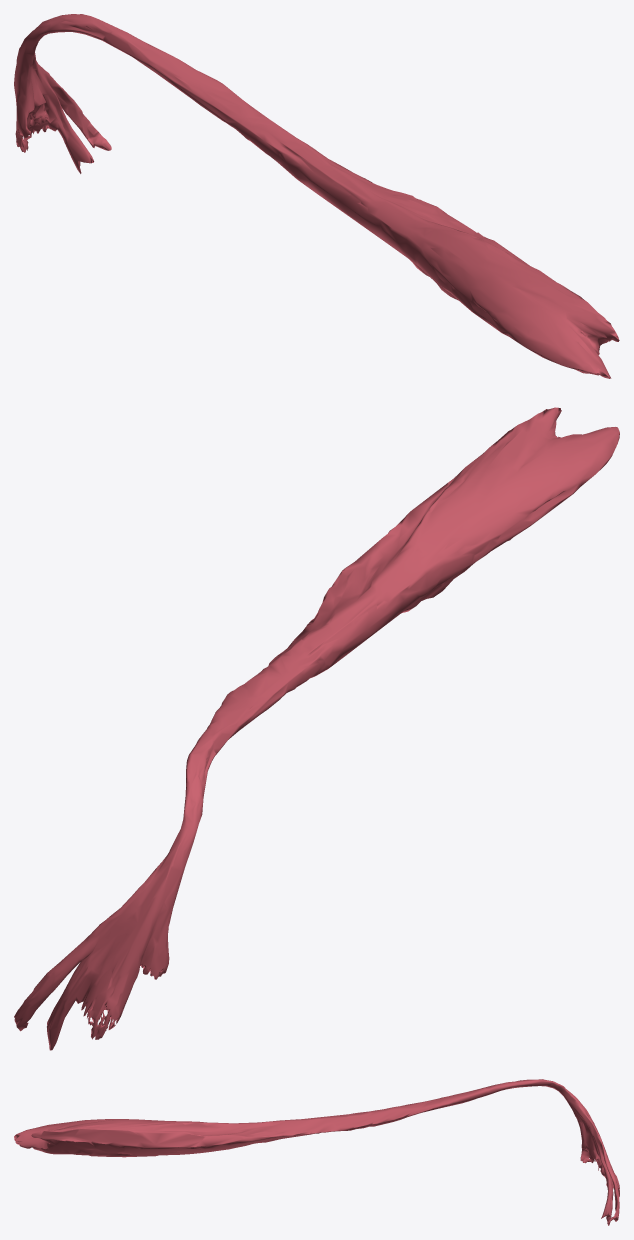
The picture shows the model from 3 angles, top to bottom: view 1: azimuth 30°, elevation 25°; view 2: azimuth 150°, elevation 25°; view 3: azimuth 270°, elevation 25°; orthographic projection. The views are drawn at different scales.
Parts seen in each view (by area): view 1: 左侧胫骨后肌; view 2: 左侧胫骨后肌; view 3: 左侧胫骨后肌.
Part boxes in pixels (x1=…): 左侧胫骨后肌: x1=14, y1=14, x2=619, y2=378; 左侧胫骨后肌: x1=14, y1=407, x2=619, y2=1050; 左侧胫骨后肌: x1=14, y1=1079, x2=619, y2=1225.
Size of the model in its own units: 0.0868 by 0.1196 by 0.5065.
